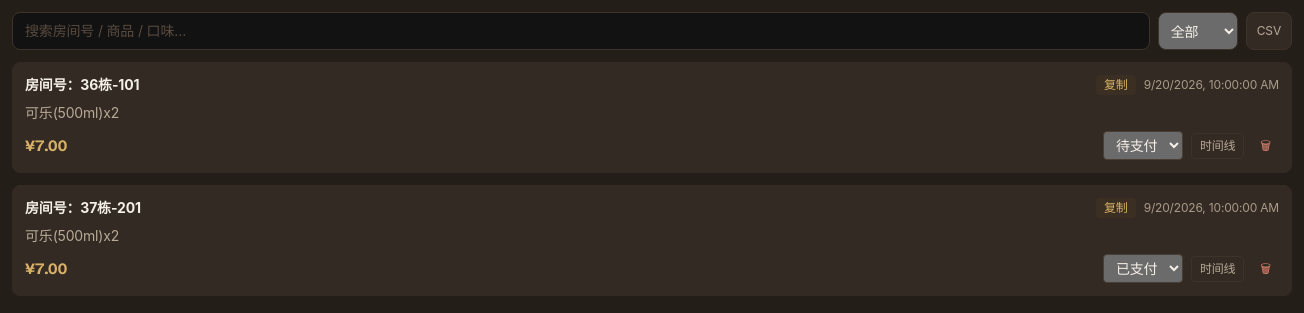
Test: 筛选与分页 › 按状态下拉筛选（下拉选项来自 5 态表）
Select "已支付" in the dropdown named "按订单状态筛选": point(1198, 31) [1158,12,1238,50]
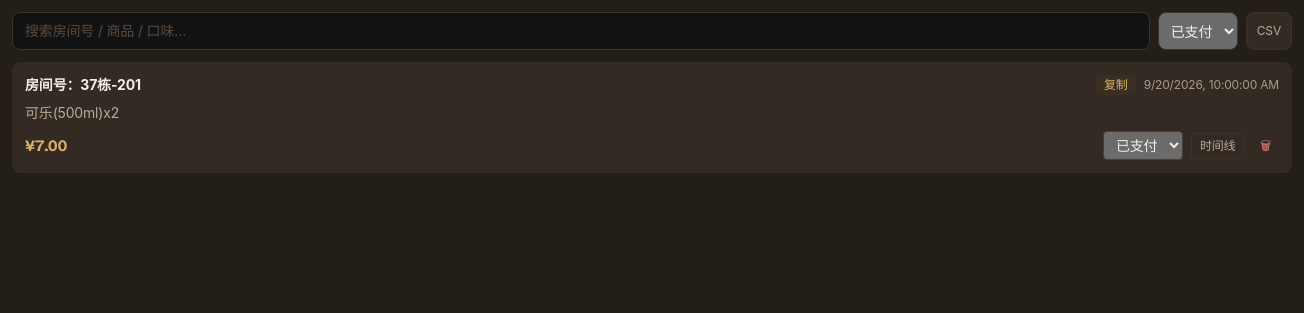
Expected: the text "房间号：37栋-201" is shown, [25,75,141,95]
Result: the text "36栋-101" is gone
